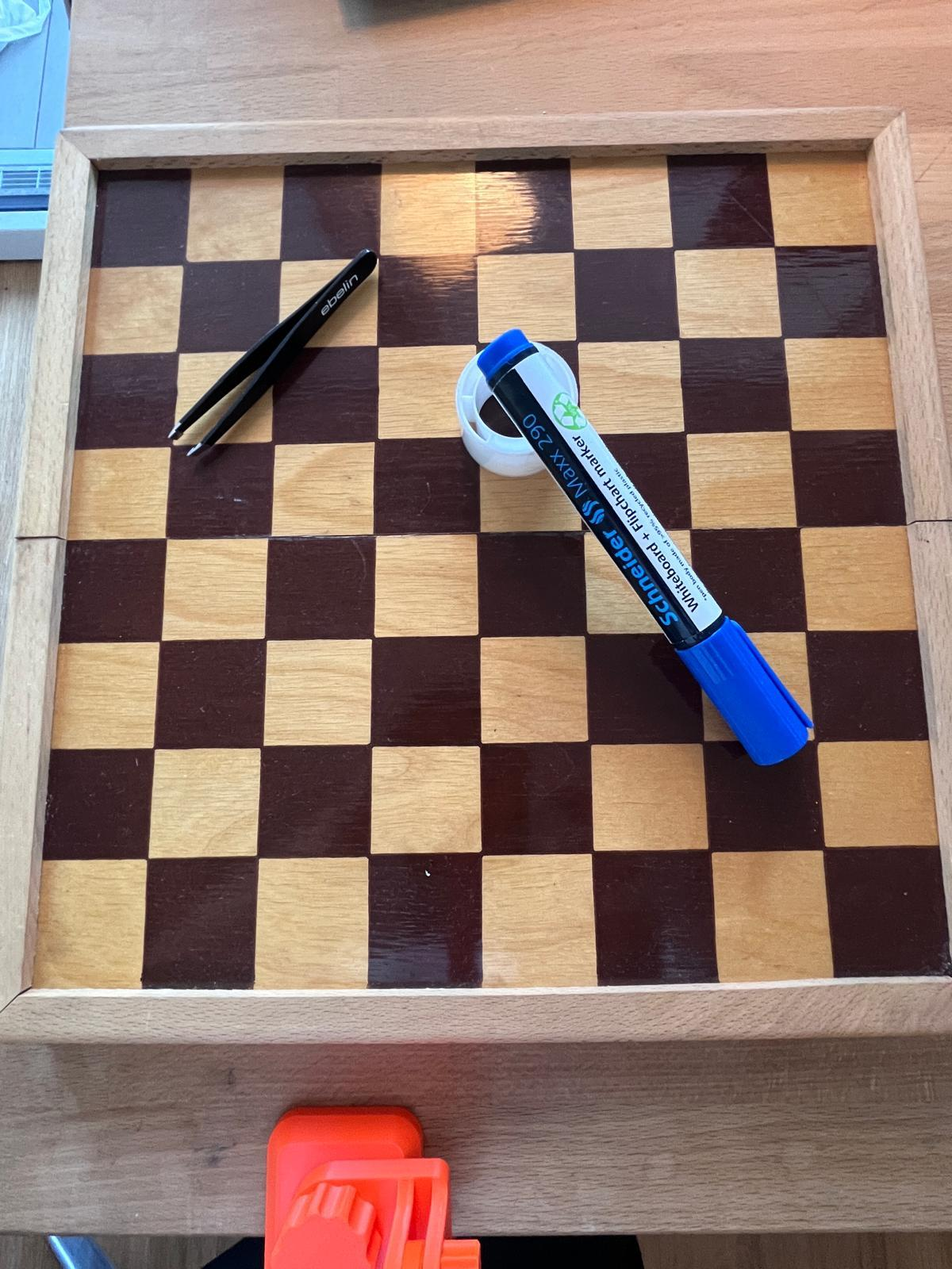marker: (479, 332, 822, 771)
tape: (443, 344, 579, 474)
tweezer: (171, 252, 378, 457)
